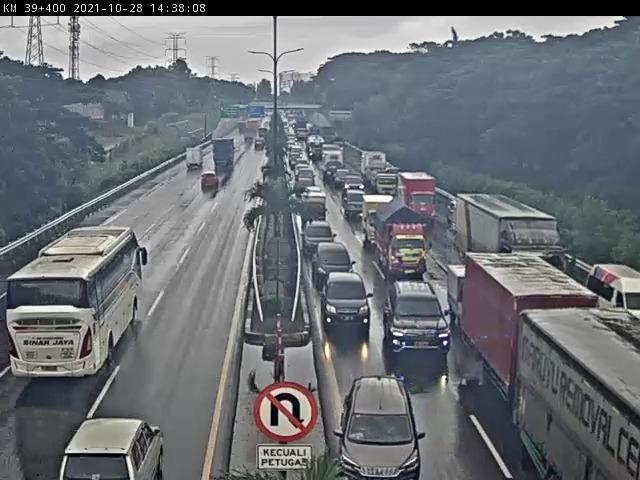Bus: (3, 209, 151, 379), (587, 254, 640, 326)
